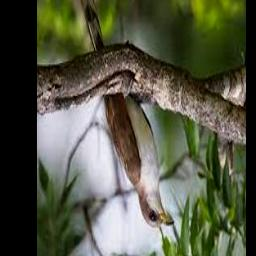Cuckoo: (73, 0, 175, 228)
